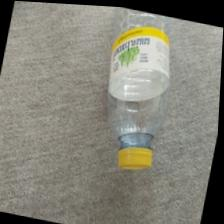plastic: (84, 6, 188, 187)
